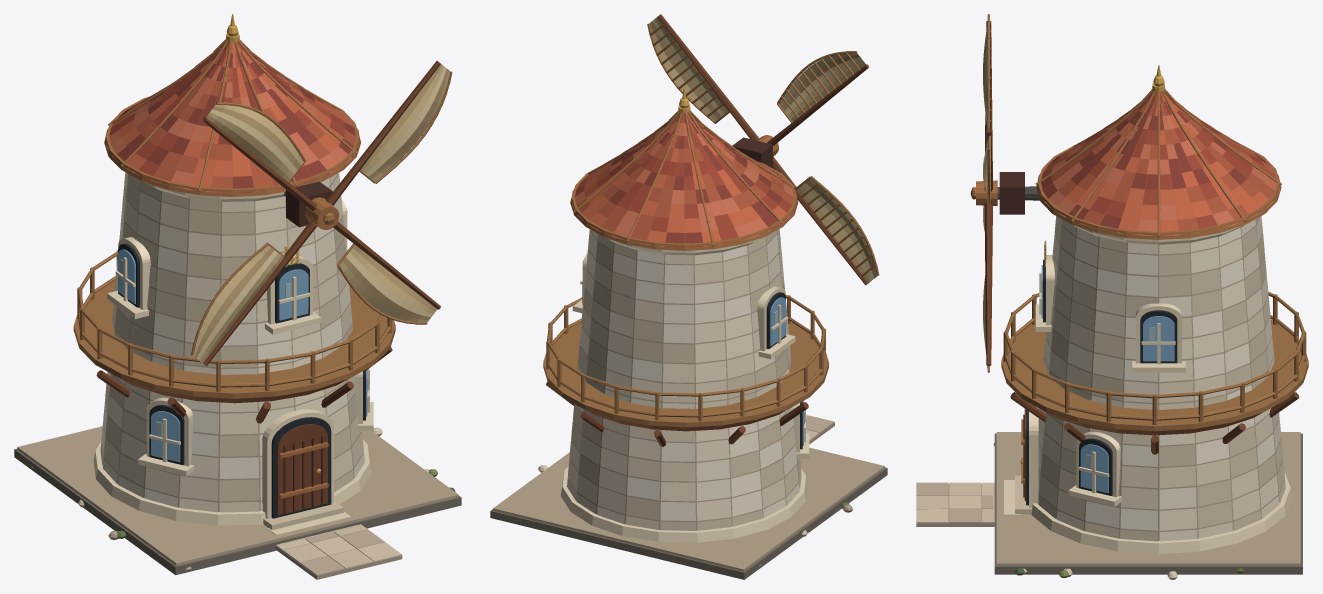
Rendered from windmill-nivel-5.glb.
3 views of the same model, side by side, from view 1: azimuth 30°, elevation 25°; view 2: azimuth 150°, elevation 25°; view 3: azimuth 270°, elevation 25° (orthographic). The views are drawn at different scales.
Visible parts, largest first — view 1: Moinho de vento 05 #b4a38a, Moinho de vento 05 #9f7145, Moinho de vento 05 #e6d7ba, Moinho de vento 05 #cec1a8, Moinho de vento 05 #e8dcc5, Moinho de vento 05 #eae1ce, Moinho de vento 05 #ded1b9, Moinho de vento 05 #b3a390, Moinho de vento 05 #a76e42, Pás do moinho #cfb788.004, Pás do moinho #b69b70.003, Moinho de vento 05 #70432c (+17 smaller); view 2: Moinho de vento 05 #eae1ce, Moinho de vento 05 #e8dcc5, Moinho de vento 05 #ded1b9, Moinho de vento 05 #9f7145, Moinho de vento 05 #cec1a8, Moinho de vento 05 #b4a38a, Moinho de vento 05 #b3a390, Moinho de vento 05 #e6d7ba, Moinho de vento 05 #a76e42, Moinho de vento 05 #a8563c, Moinho de vento 05 #bf6243, Moinho de vento 05 #9b4735 (+11 smaller); view 3: Moinho de vento 05 #cec1a8, Moinho de vento 05 #eae1ce, Moinho de vento 05 #ded1b9, Moinho de vento 05 #9f7145, Moinho de vento 05 #b4a38a, Moinho de vento 05 #e8dcc5, Moinho de vento 05 #e6d7ba, Moinho de vento 05 #b3a390, Moinho de vento 05 #a76e42, Moinho de vento 05 #bf6243, Moinho de vento 05 #a8563c, Moinho de vento 05 #853e33 (+13 smaller).
Part boxes in pixels (x1,y1,x2,y2): Moinho de vento 05 #b4a38a: [17, 426, 458, 565]; Moinho de vento 05 #9f7145: [73, 250, 395, 398]; Moinho de vento 05 #e6d7ba: [93, 182, 373, 535]; Moinho de vento 05 #cec1a8: [100, 174, 357, 501]; Moinho de vento 05 #e8dcc5: [103, 187, 350, 512]; Moinho de vento 05 #eae1ce: [101, 173, 364, 511]; Moinho de vento 05 #ded1b9: [103, 172, 364, 512]; Moinho de vento 05 #b3a390: [102, 173, 363, 511]; Moinho de vento 05 #a76e42: [104, 39, 360, 498]; Pás do moinho #cfb788.004: [193, 65, 450, 361]; Pás do moinho #b69b70.003: [194, 64, 448, 363]; Moinho de vento 05 #70432c: [87, 346, 392, 515]; Moinho de vento 05 #eae1ce: [573, 229, 801, 520]; Moinho de vento 05 #e8dcc5: [576, 229, 800, 524]; Moinho de vento 05 #ded1b9: [567, 229, 800, 529]; Moinho de vento 05 #9f7145: [543, 295, 828, 427]; Moinho de vento 05 #cec1a8: [567, 230, 795, 530]; Moinho de vento 05 #b4a38a: [493, 447, 884, 571]; Moinho de vento 05 #b3a390: [568, 230, 800, 530]; Moinho de vento 05 #e6d7ba: [560, 237, 809, 542]; Moinho de vento 05 #a76e42: [570, 110, 798, 250]; Moinho de vento 05 #a8563c: [573, 113, 797, 244]; Moinho de vento 05 #bf6243: [578, 119, 795, 246]; Moinho de vento 05 #9b4735: [571, 113, 795, 244]; Moinho de vento 05 #cec1a8: [1038, 216, 1283, 541]; Moinho de vento 05 #eae1ce: [1038, 219, 1282, 530]; Moinho de vento 05 #ded1b9: [1037, 234, 1285, 538]; Moinho de vento 05 #9f7145: [1001, 292, 1308, 431]; Moinho de vento 05 #b4a38a: [996, 432, 1300, 565]; Moinho de vento 05 #e8dcc5: [1039, 216, 1285, 541]; Moinho de vento 05 #e6d7ba: [1004, 222, 1292, 554]; Moinho de vento 05 #b3a390: [1038, 217, 1284, 540]; Moinho de vento 05 #a76e42: [1021, 89, 1281, 483]; Moinho de vento 05 #bf6243: [1058, 92, 1278, 235]; Moinho de vento 05 #a8563c: [1039, 91, 1279, 235]; Moinho de vento 05 #853e33: [1037, 92, 1268, 232].
Size of the model in its own units: 6.16 by 8.76 by 6.99.
